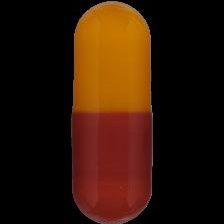0555-0808: (0, 0, 224, 224)
